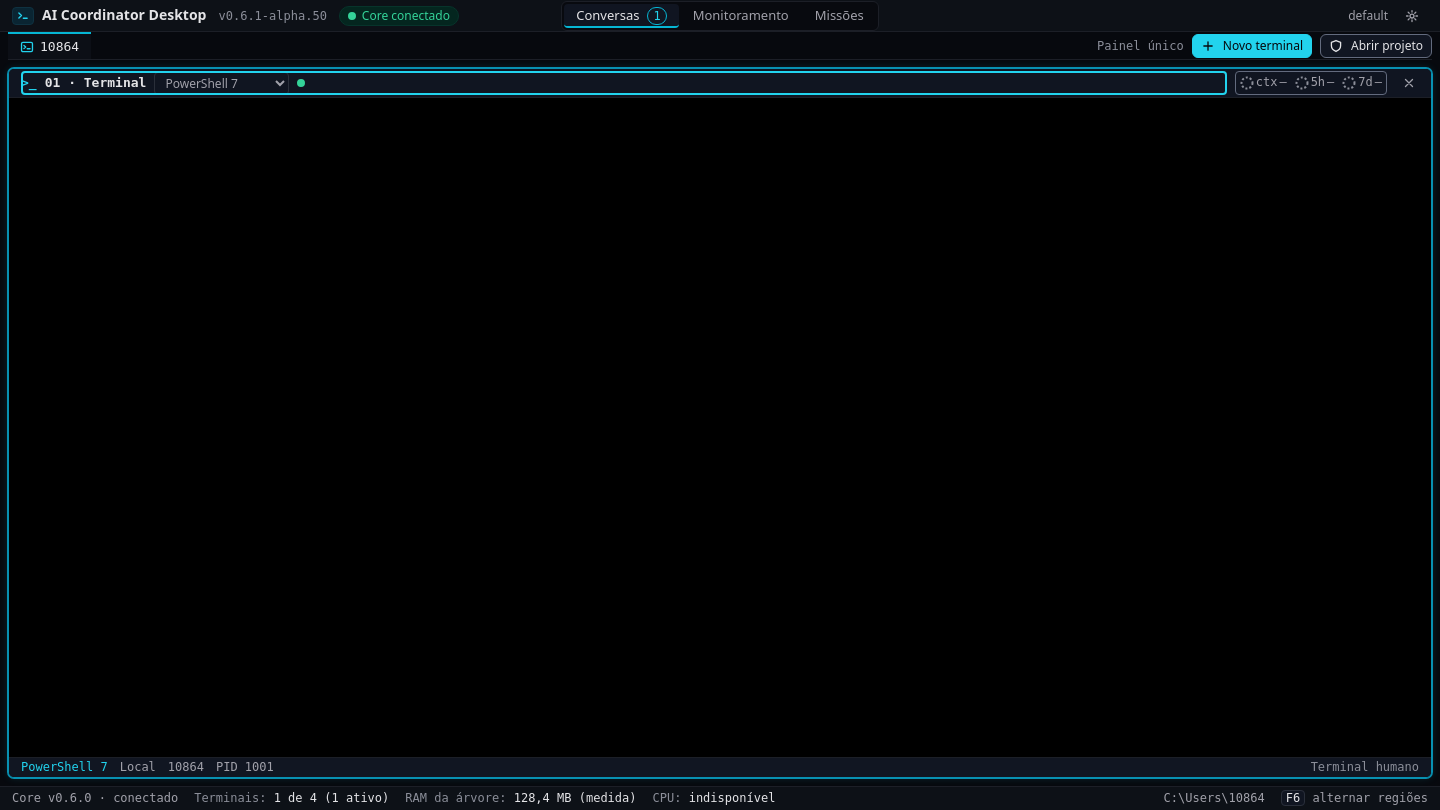
Test case: App views › Sobre shows the PID and RAM of the main process once measured, never the CPU
Expected: the text "Core conectado" is shown, [339,6,459,26]
Expected: the footer named "Barra de status" shows "(medida)", [572,791,636,805]
Click the button named "Configurações".
click(1412, 16)  # box [1396,4,1428,28]
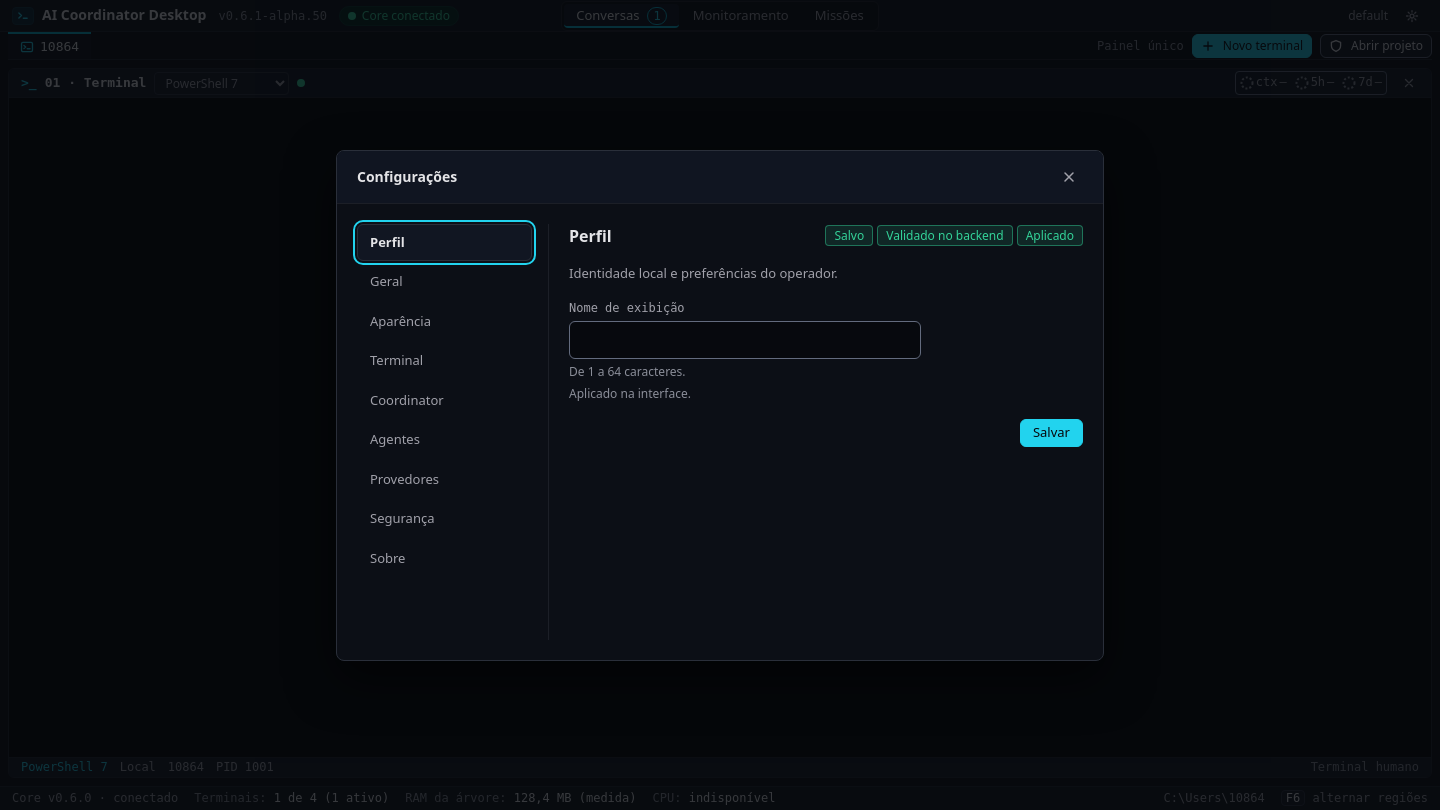
Click the tab "Sobre".
click(444, 558)  # box [357,540,532,577]
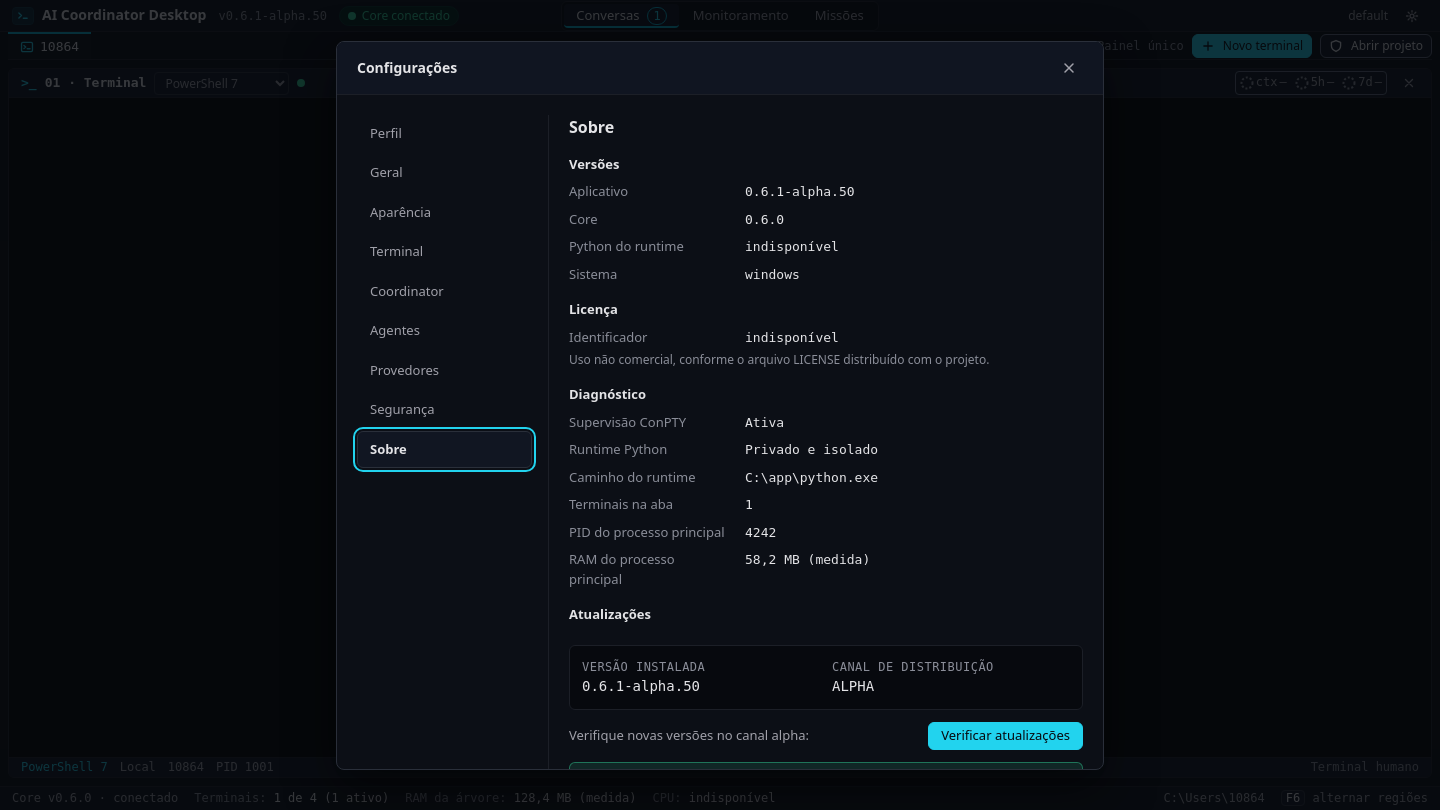
Expected: the text "4242" is shown, [745,524,776,540]
Expected: the text "58,2 MB (medida)" is shown, [745,552,870,567]
